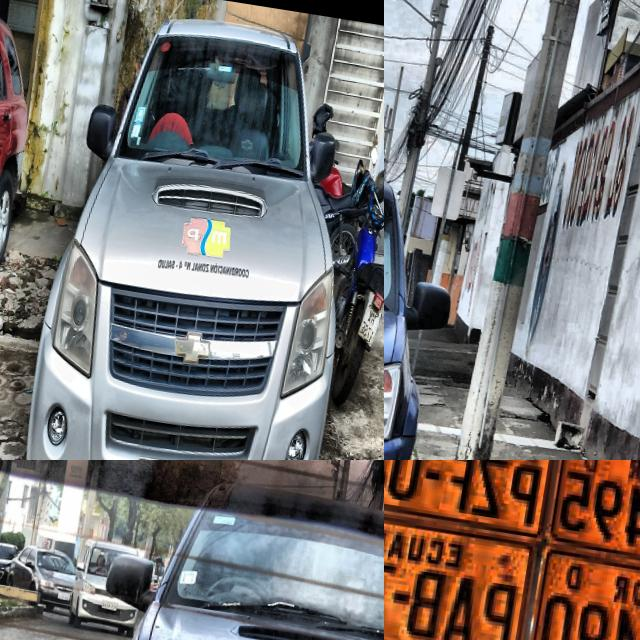license_plate: (384, 512, 542, 640), (384, 460, 559, 545), (526, 545, 640, 640), (543, 460, 640, 561)
